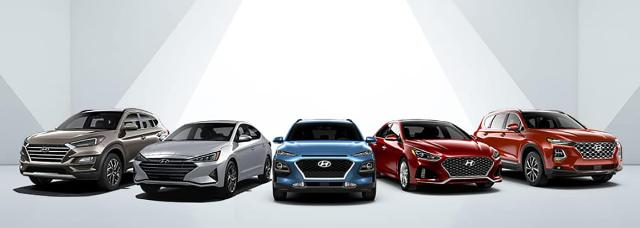hyundai: (19, 108, 169, 190), (473, 109, 623, 187), (132, 121, 274, 197), (367, 117, 503, 189), (272, 118, 376, 202)
